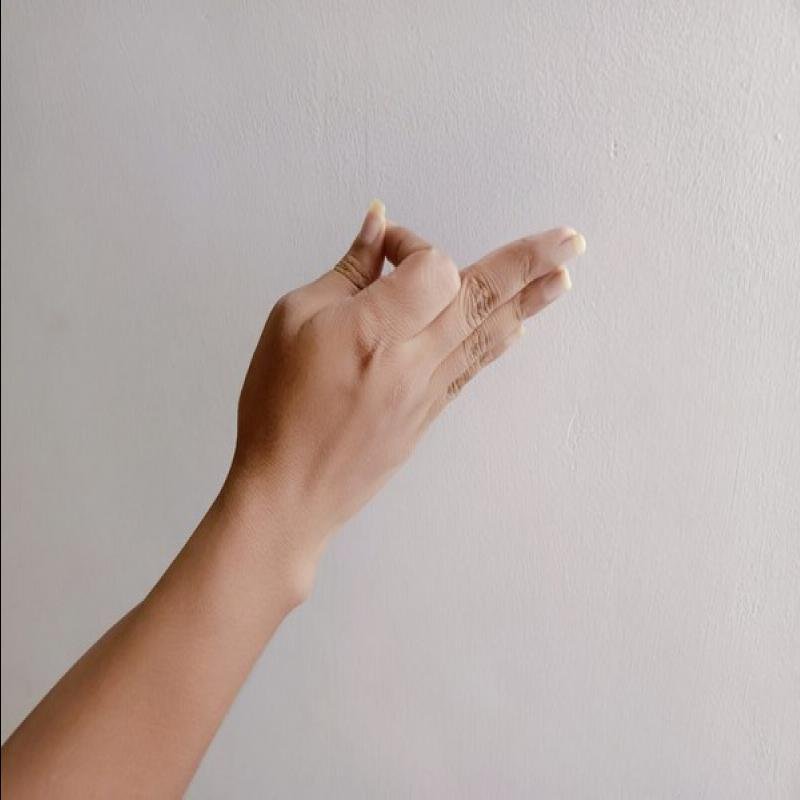Mudraakhyam: (227, 193, 593, 522)
